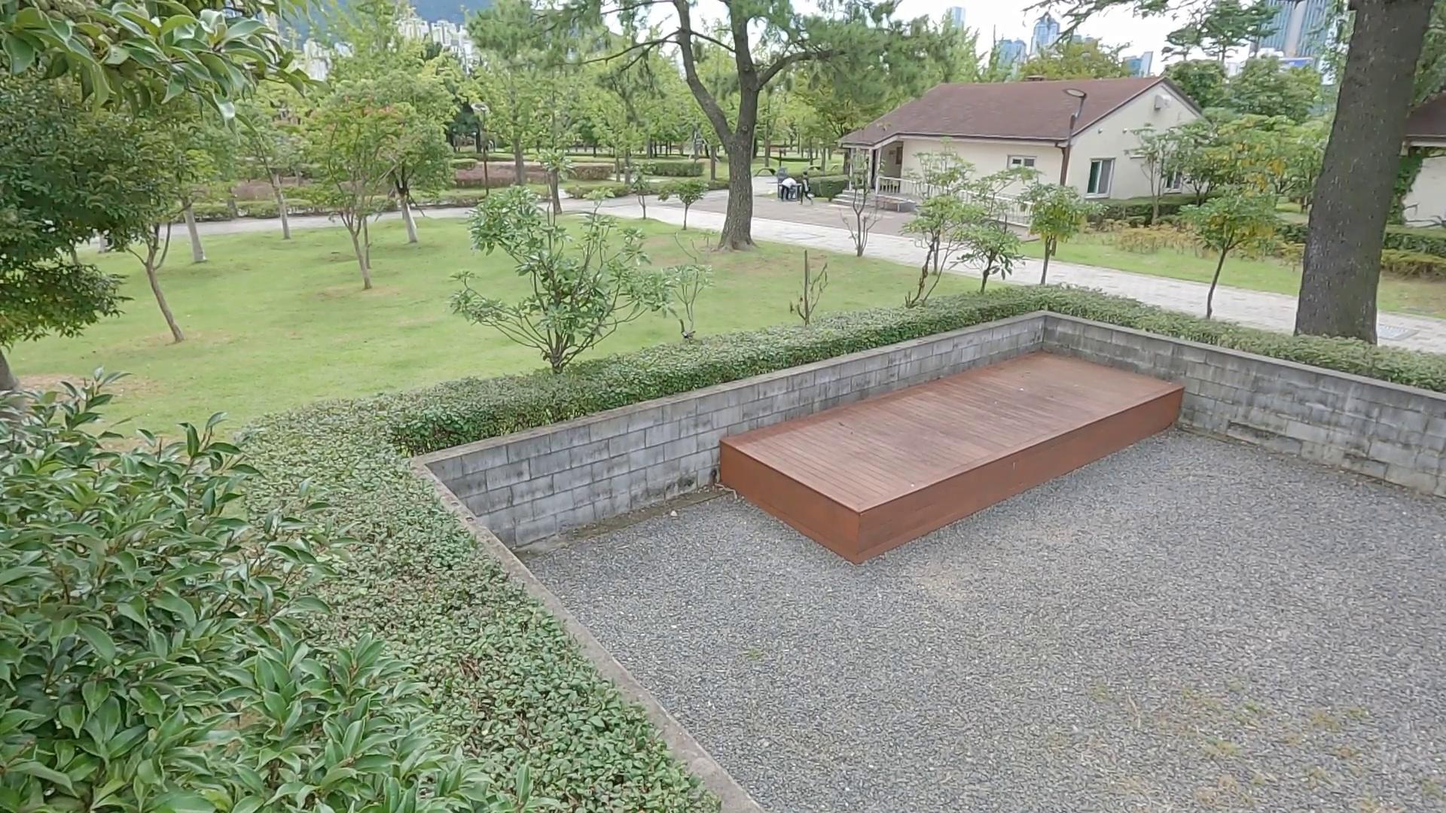person: (798, 169, 817, 208), (779, 172, 802, 202)
